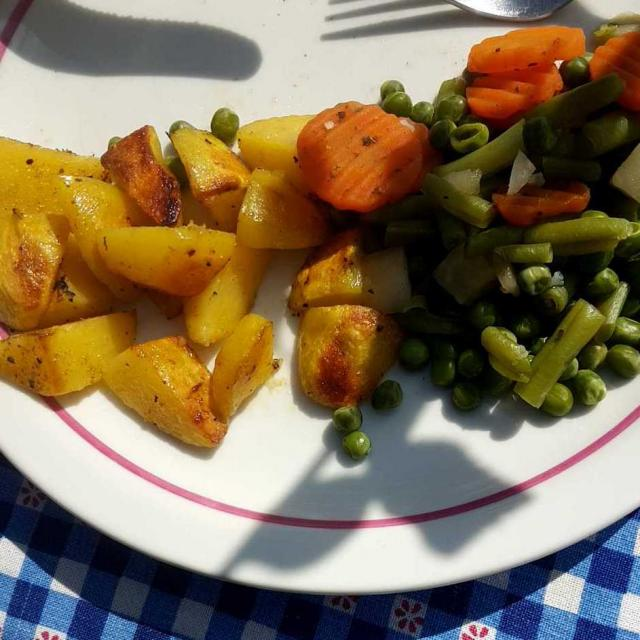potatoes-steamed: (0, 120, 407, 443)
vegetable-mix-peas-and-carrots: (297, 19, 638, 414)
